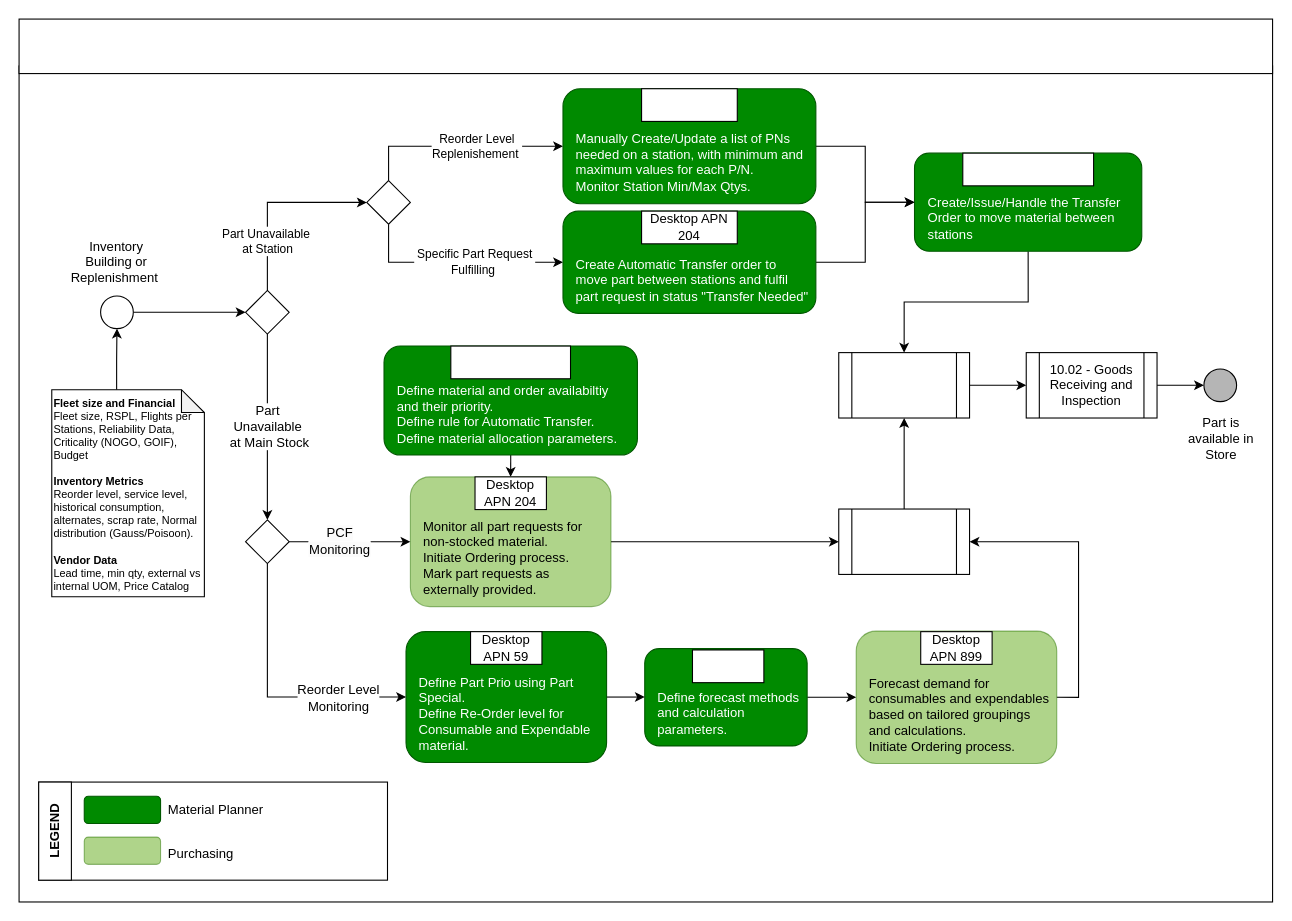
Some shapes in this 1292 by 921 pixel diagram are drawn without their labels. The shapes that lost their labels are listed below. From the top down, each one's centre as x and y in pixels, then its label:
At point (645, 46): "09.01 Material Planning".
At point (688, 104): "Desktop APN 313".
At point (1028, 169): "Desktop APN 2015".
At point (510, 362): "Desktop APN 2629".
At point (904, 385): "10.01 - Logistics".
At point (904, 541): "09.03 - Ordering".
At point (727, 666): "Desktop APN 459".
